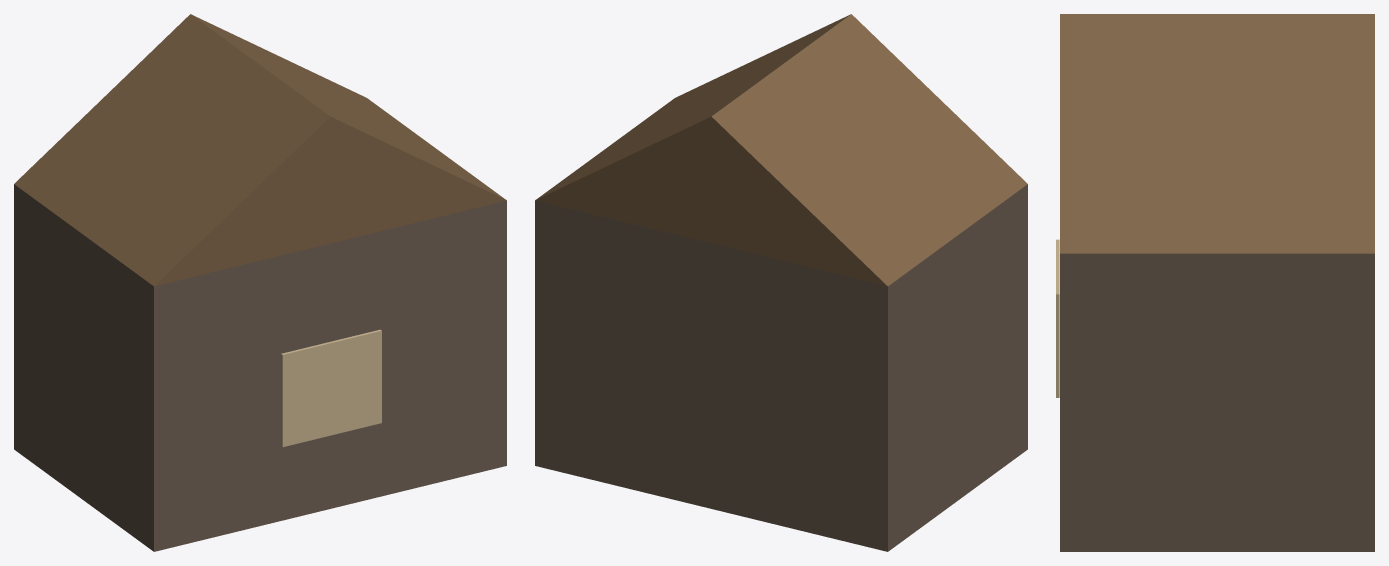
Rendered from villa-gable-roof.glb.
The picture shows the model from 3 angles, left to right: view 1: azimuth 30°, elevation 25°; view 2: azimuth 150°, elevation 25°; view 3: azimuth 270°, elevation 25°; orthographic projection. The views are drawn at different scales.
Visible parts, largest first — view 1: geometry_0, geometry_1, geometry_2; view 2: geometry_0, geometry_1; view 3: geometry_0, geometry_1, geometry_2.
Part boxes in pixels (bbox=[...]): geometry_0: bbox=[14, 184, 506, 551]; geometry_1: bbox=[14, 14, 506, 286]; geometry_2: bbox=[281, 329, 381, 447]; geometry_0: bbox=[535, 184, 1027, 551]; geometry_1: bbox=[535, 14, 1027, 286]; geometry_0: bbox=[1060, 253, 1374, 551]; geometry_1: bbox=[1060, 14, 1374, 253]; geometry_2: bbox=[1056, 239, 1059, 397].
Bounding box in the file's own units: 6.4 × 6.8 × 4.46.
